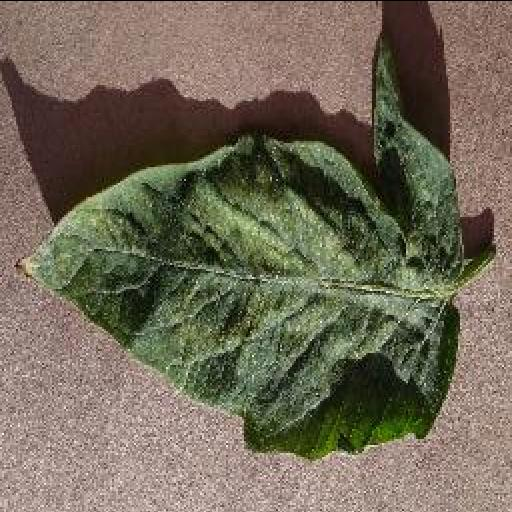disease_tomato: (14, 34, 464, 458)
